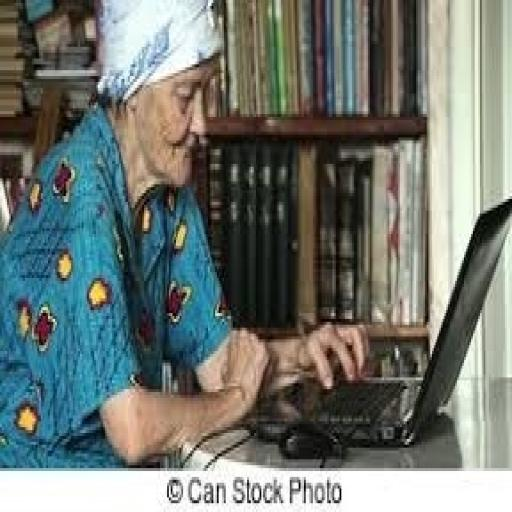using_laptop: (249, 193, 510, 448)
